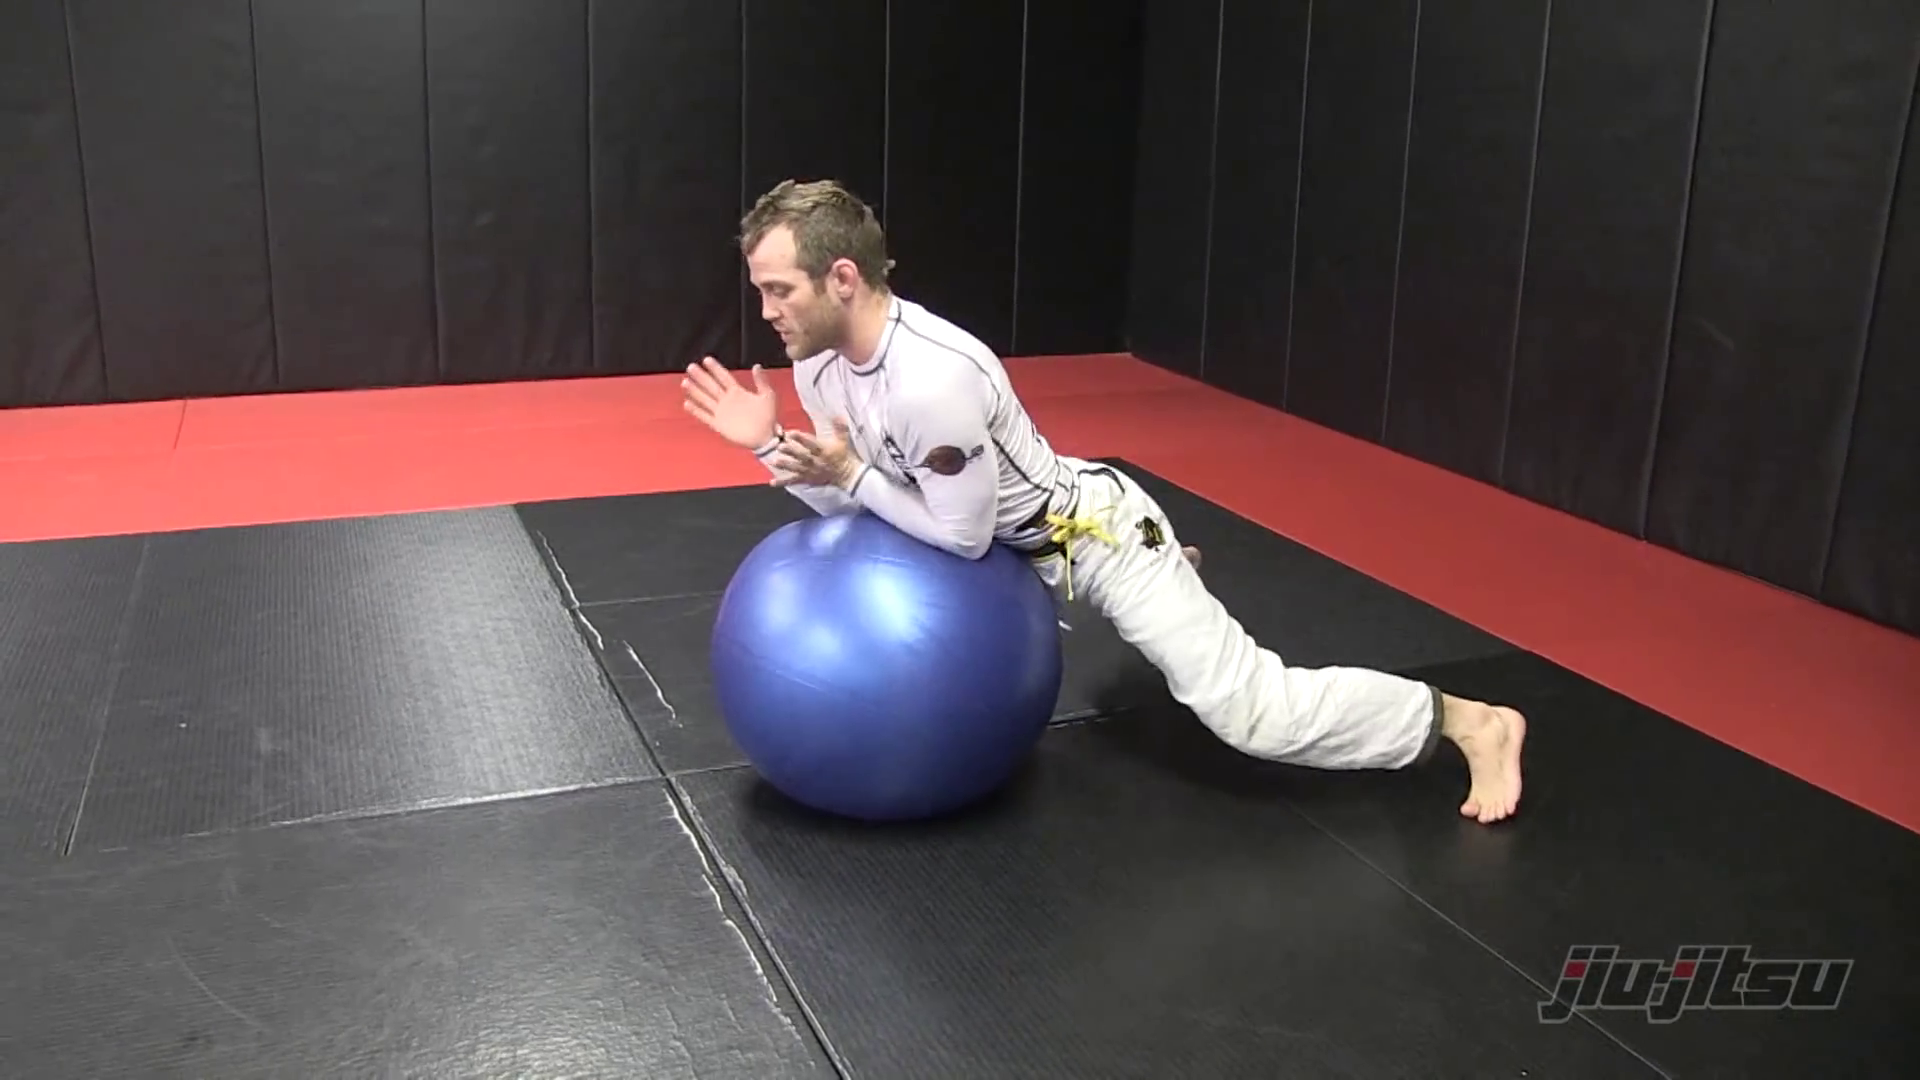yogaball: (700, 500, 1077, 835)
